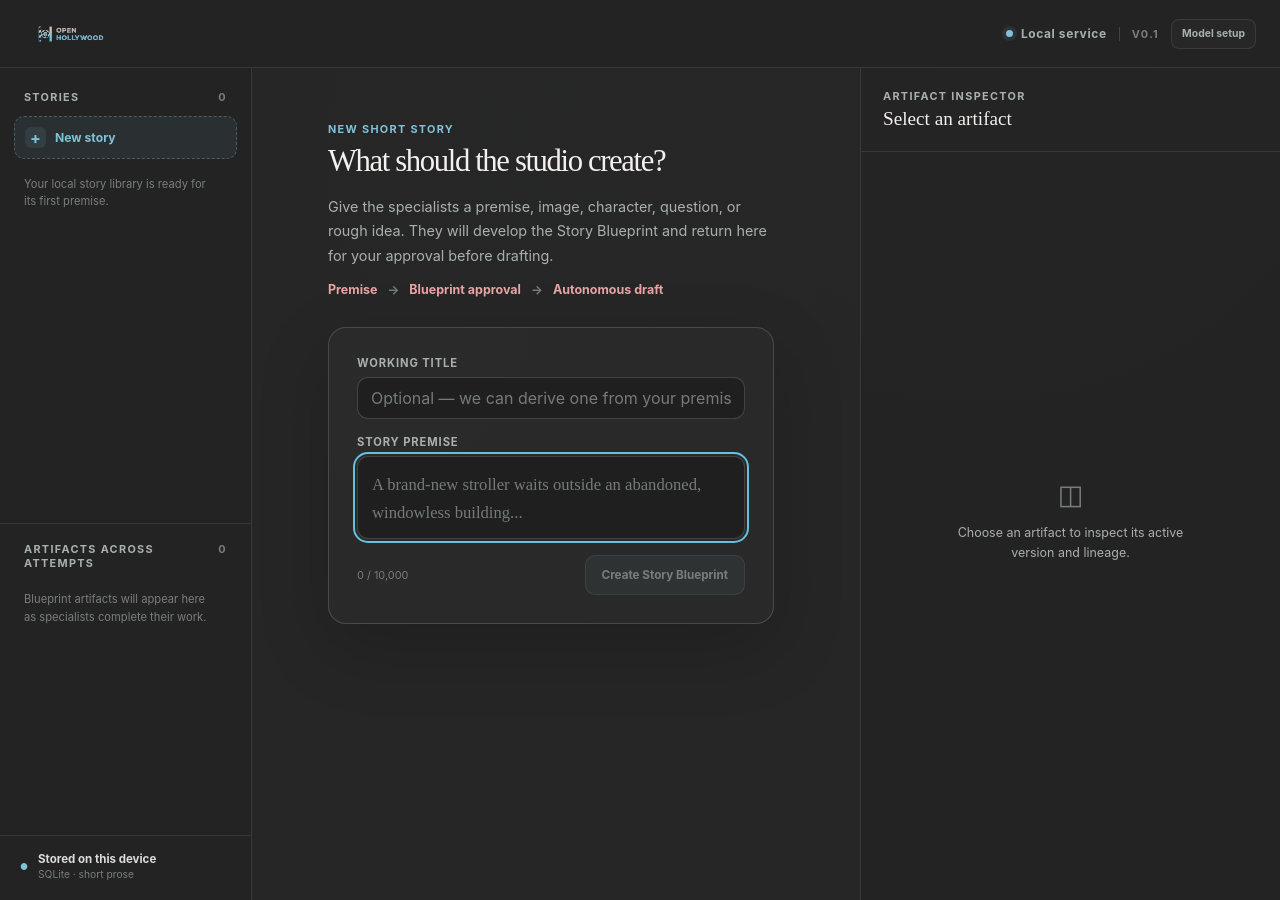
Test: App › opens an empty library as a usable workspace and creates the first story
Expected: the heading "What should the studio create?" is shown, 328,144 -> 665,178
Expected: the navigation bar named "Story projects and artifacts" is shown, 0,68 -> 252,899
Type "The Untouched Stroller" into the field labelled "Working title".
click(551, 398); type("The Untouched Stroller")  # box 357,377 -> 745,419
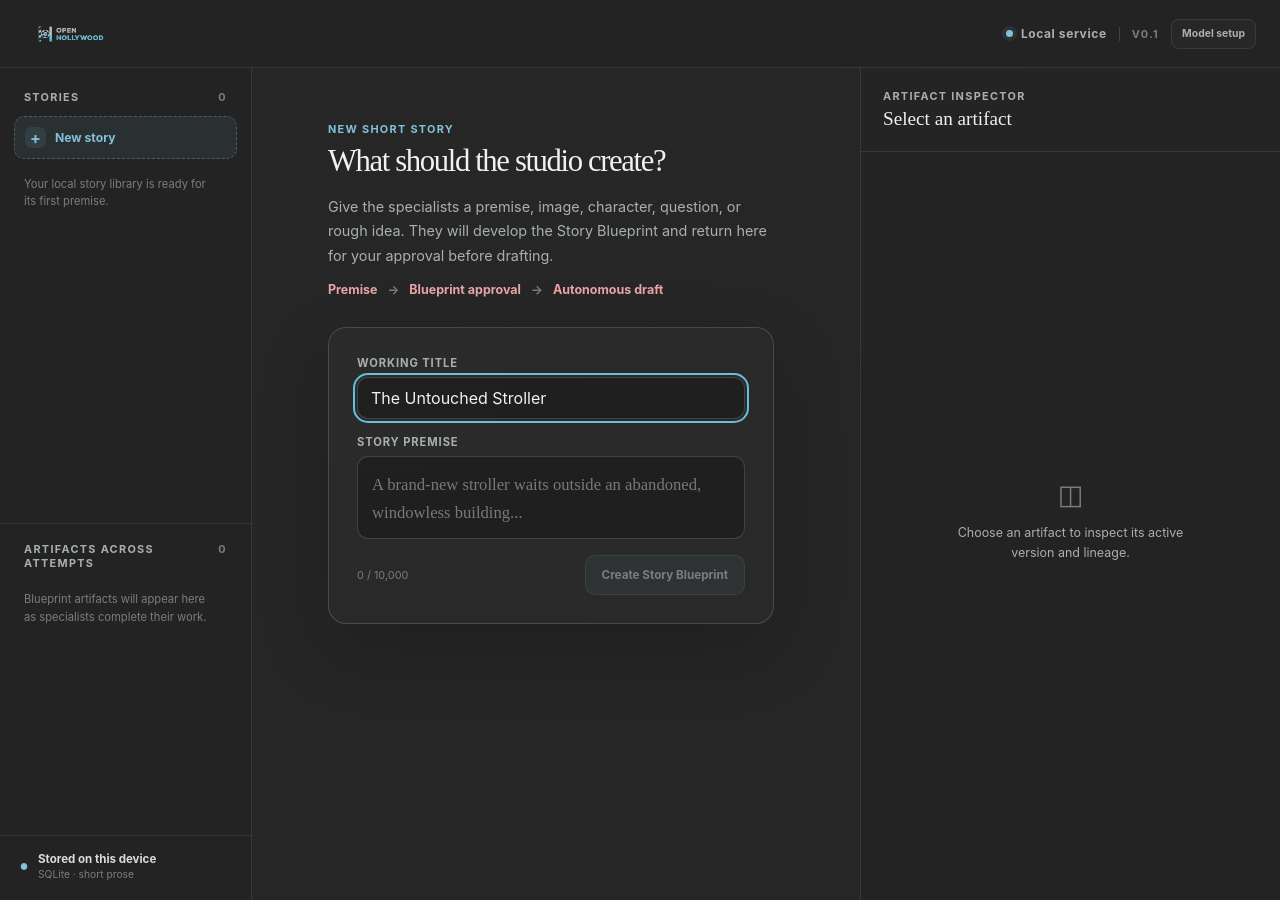
Type "A pristine stroller waits outside an abandoned building." into the text box labelled "Story premise".
click(551, 498); type("A pristine stroller waits outside an abandoned building.")  # box 357,456 -> 745,539
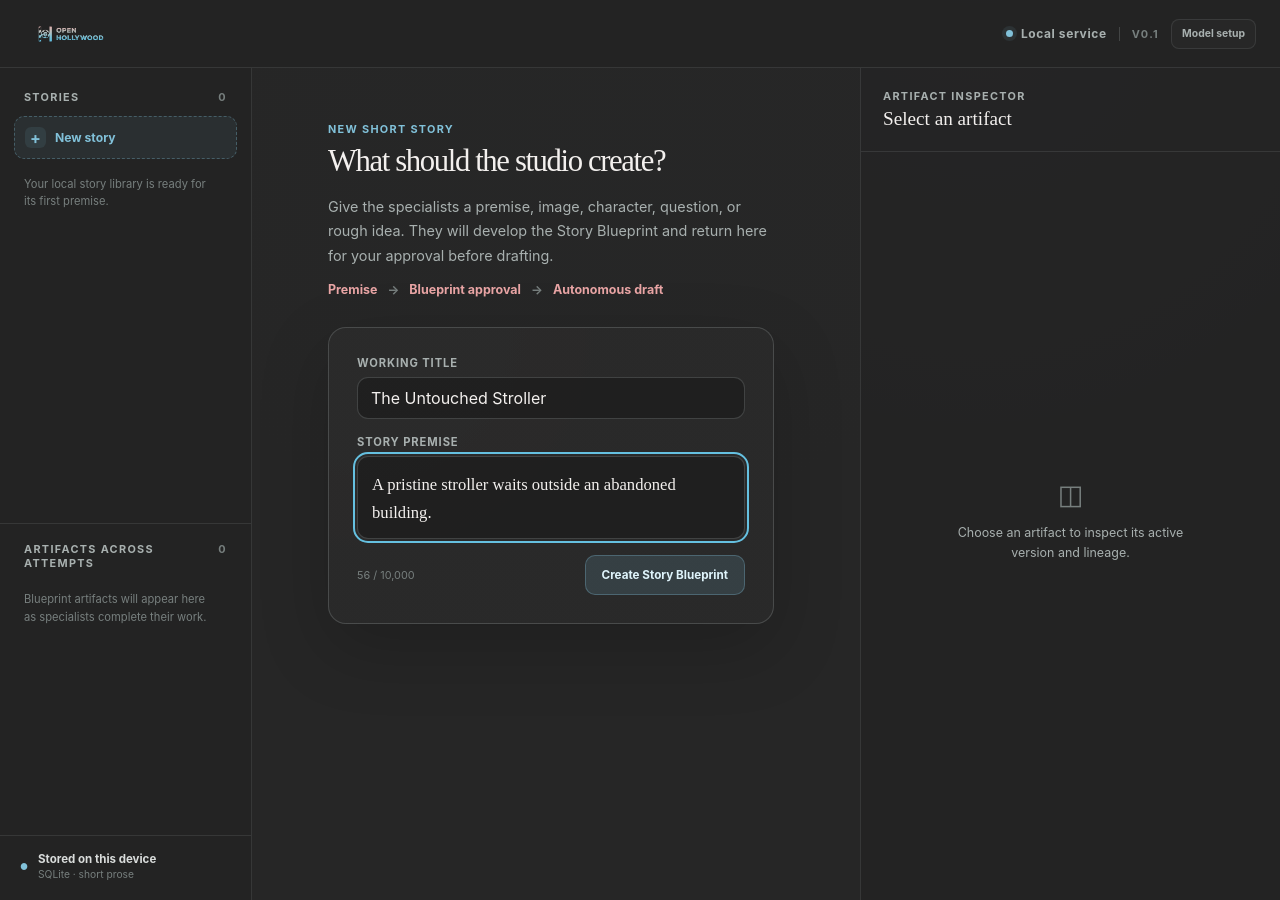
Click the button "Create Story Blueprint".
click(665, 575)  # box 584,555 -> 745,595
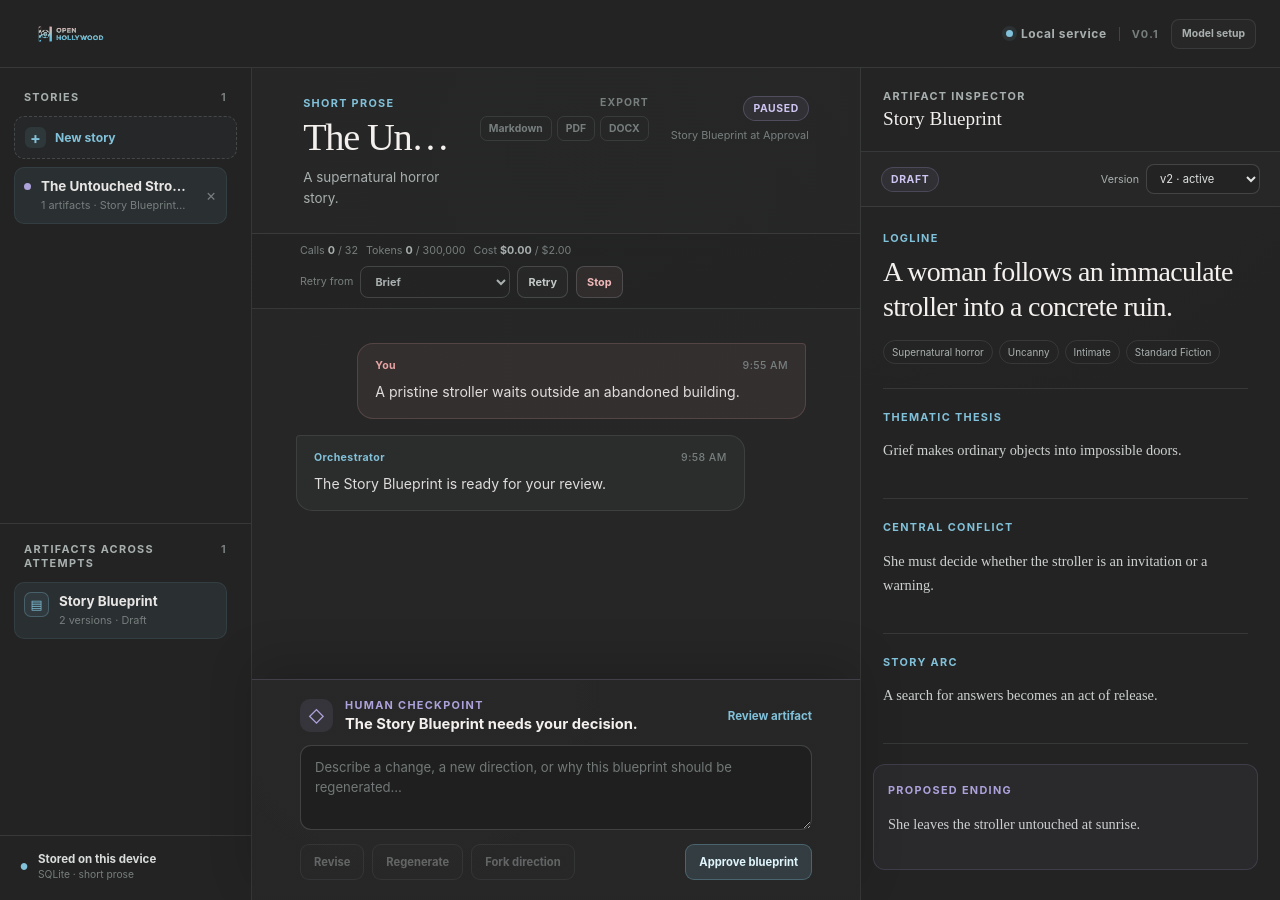
Expected: the heading "The Untouched Stroller" is shown, 303,117 -> 452,157
